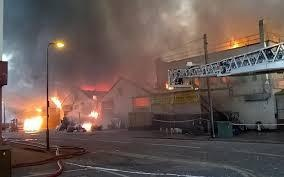fire: (22, 105, 45, 131), (81, 108, 101, 131), (225, 36, 242, 50), (49, 94, 63, 108)
